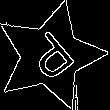P_SE: (19, 24, 82, 88)
